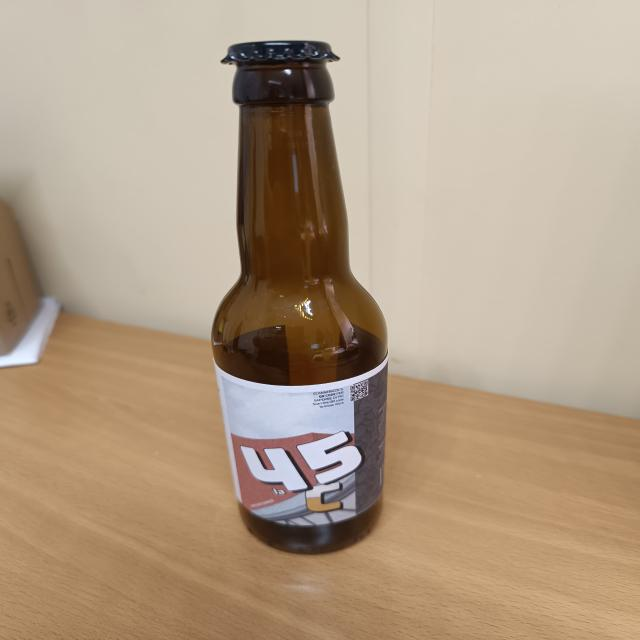Bottle: (213, 38, 390, 556)
Cap: (216, 41, 347, 66)
Label: (213, 366, 392, 524)
